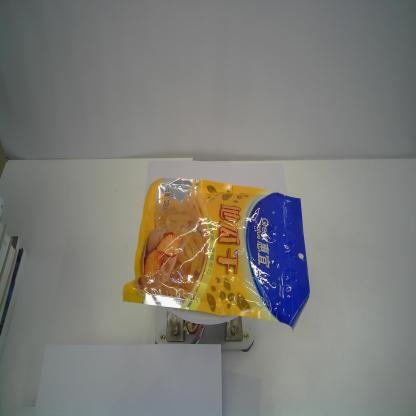Dried Fruit: (122, 176, 310, 333)
